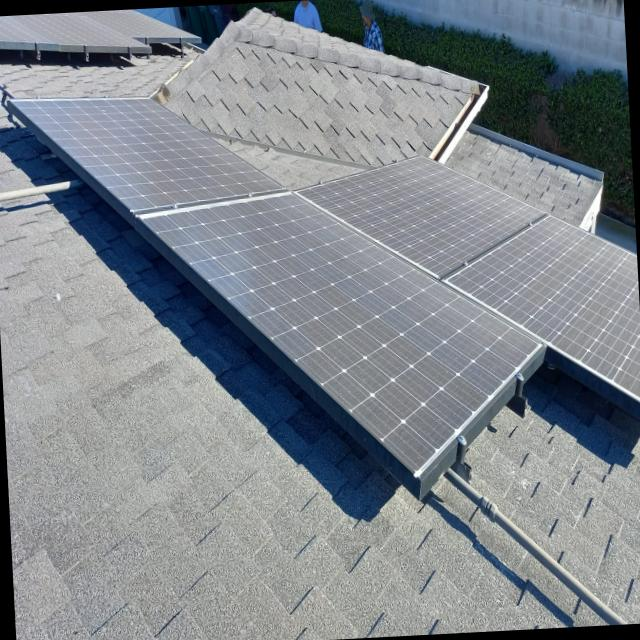faulty: (24, 99, 640, 471)
